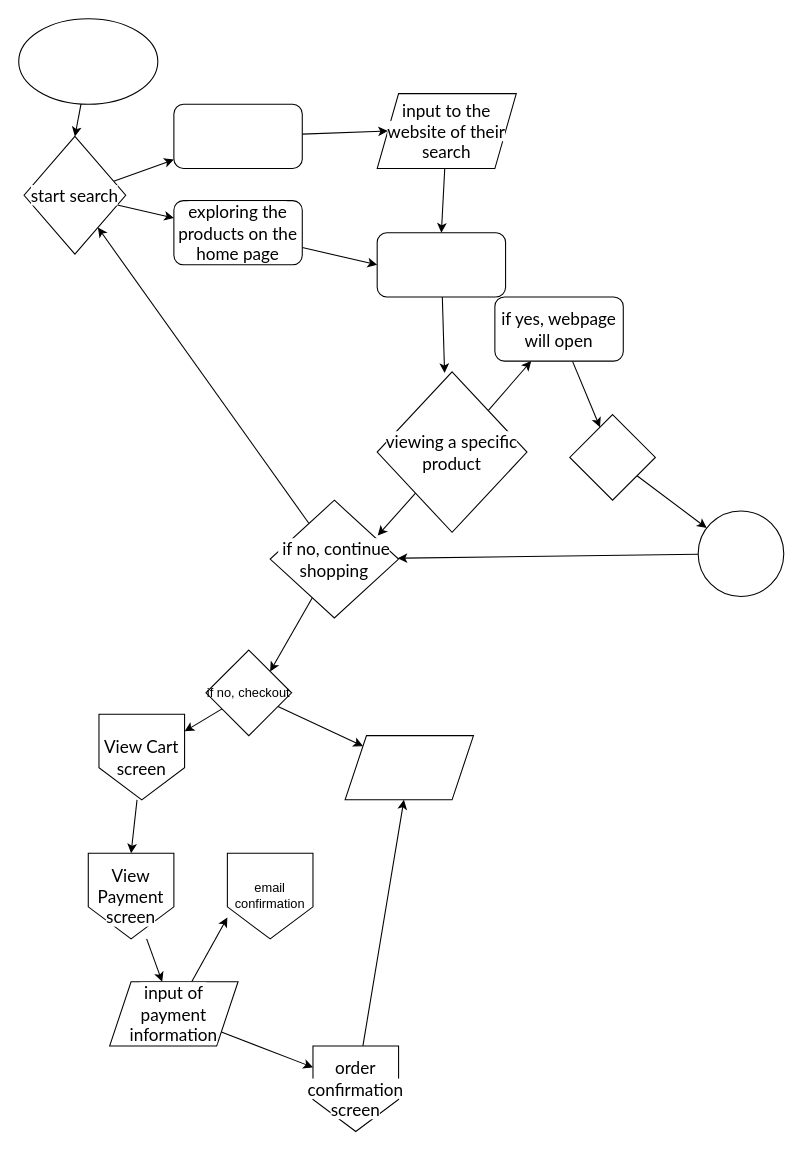
Image size: 807x1150. Some labels were removed from this diagram. The box of each missing label's shape, as (x1, y1, x2, y2) in pixels:
add this item to their cart: (569, 414, 655, 500)
entering the website: (18, 18, 158, 104)
if no, leave the website: (344, 735, 473, 800)
if yes, added to cart confirmation: (697, 510, 784, 597)
looking over the products: (376, 232, 506, 297)
searching for a product: (173, 103, 302, 169)
